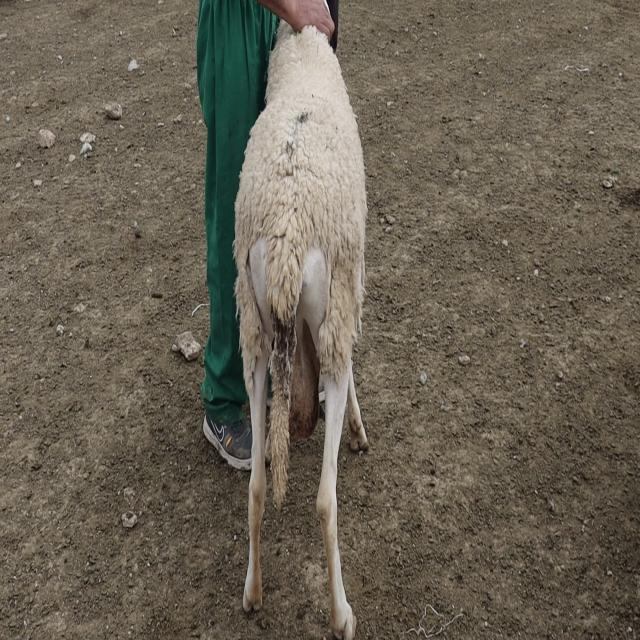Score_2: (234, 23, 368, 639)
